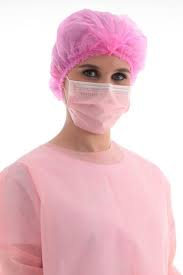with_mask_and_cap: (55, 9, 144, 136)
